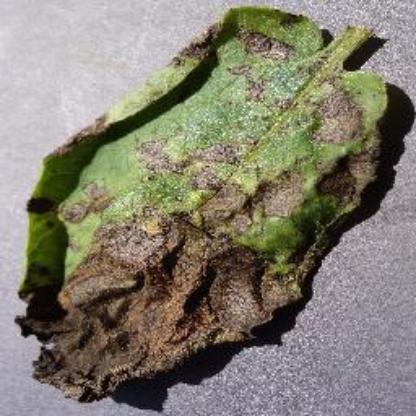Early-Blight: (16, 3, 402, 403)
